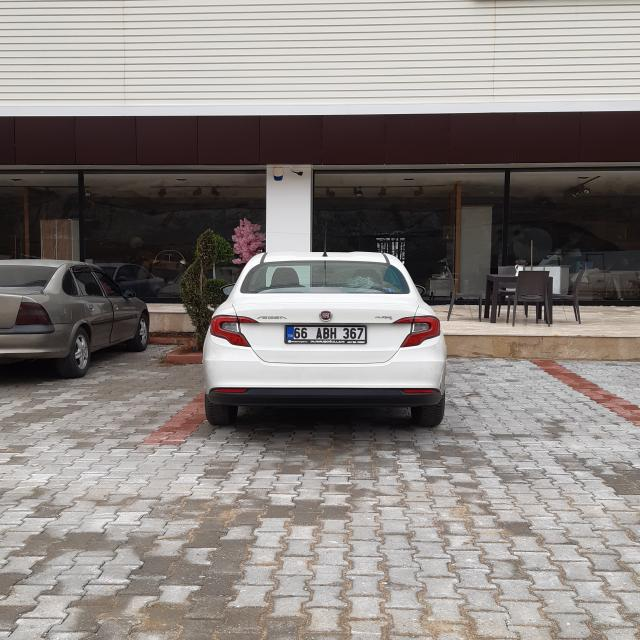plate: (286, 326, 366, 339)
